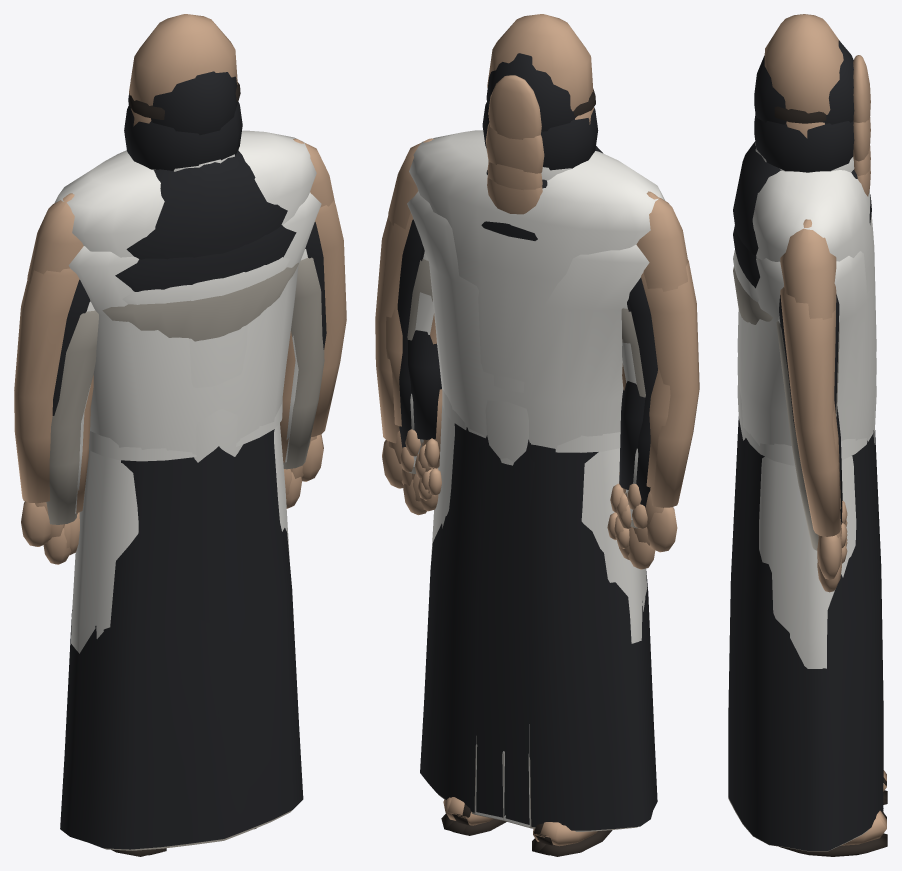
Rendered from pilgrims.glb.
The picture shows the model from 3 angles, left to right: view 1: azimuth 30°, elevation 25°; view 2: azimuth 150°, elevation 25°; view 3: azimuth 270°, elevation 25°; orthographic projection. The views are drawn at different scales.
Parts seen in each view (by area): view 1: pilgrim_woman_b, pilgrim_man_d, pilgrim_man_b, pilgrim_woman_b2, pilgrim_woman_c, pilgrim_woman_w, pilgrim_man_c; view 2: pilgrim_woman_b, pilgrim_man_d, pilgrim_man_b, pilgrim_woman_b2, pilgrim_woman_c, pilgrim_man_c, pilgrim_woman_w, pilgrim_man; view 3: pilgrim_woman_b, pilgrim_man_d, pilgrim_man_b, pilgrim_woman_b2, pilgrim_woman_c, pilgrim_woman_w, pilgrim_man_c.
Part boxes in pixels (<box>): pilgrim_woman_b: <box>49,101,326,852</box>; pilgrim_man_d: <box>14,82,346,856</box>; pilgrim_man_b: <box>27,14,334,855</box>; pilgrim_woman_b2: <box>77,71,287,853</box>; pilgrim_woman_c: <box>43,257,324,855</box>; pilgrim_woman_w: <box>64,148,307,854</box>; pilgrim_man_c: <box>69,331,295,853</box>; pilgrim_woman_b: <box>397,102,657,852</box>; pilgrim_man_d: <box>375,89,699,856</box>; pilgrim_man_b: <box>386,14,688,855</box>; pilgrim_woman_b2: <box>408,53,645,853</box>; pilgrim_woman_c: <box>403,175,655,855</box>; pilgrim_man_c: <box>420,313,629,851</box>; pilgrim_woman_w: <box>410,148,638,854</box>; pilgrim_man: <box>412,375,636,854</box>; pilgrim_woman_b: <box>728,114,883,850</box>; pilgrim_man_d: <box>737,106,887,856</box>; pilgrim_man_b: <box>737,14,887,845</box>; pilgrim_woman_b2: <box>728,40,887,837</box>; pilgrim_woman_c: <box>728,166,870,851</box>; pilgrim_woman_w: <box>733,143,886,785</box>; pilgrim_man_c: <box>737,380,887,804</box>.
Size of the model in its own units: 0.7769 by 1.86 by 0.3326.
